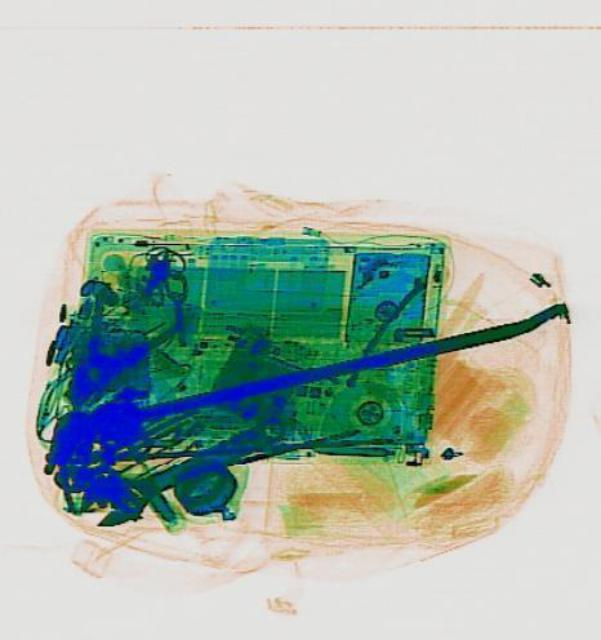Wrench: (67, 398, 293, 538)
